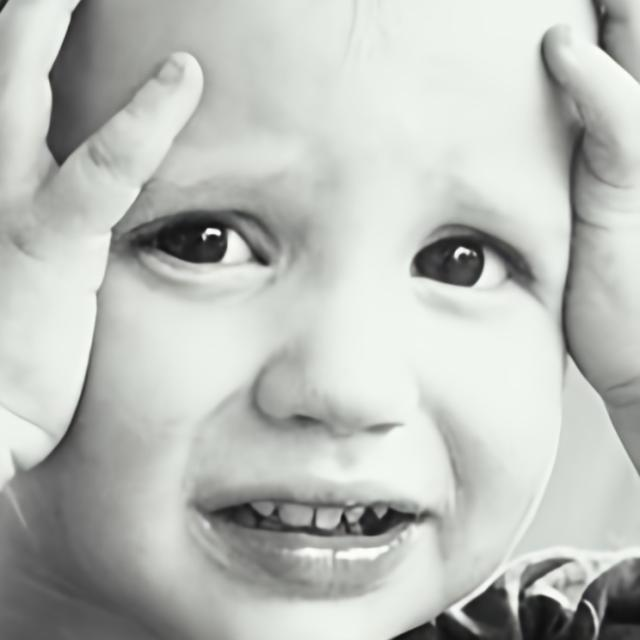fear: (48, 0, 598, 640)
